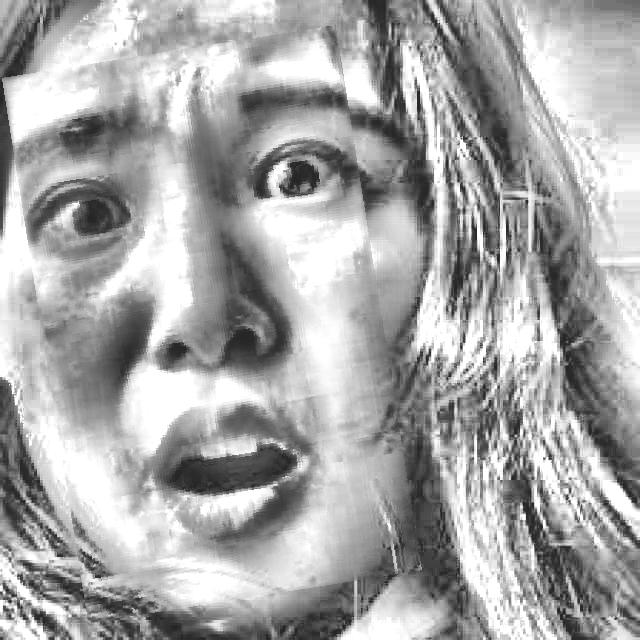fear: (22, 36, 402, 612)
